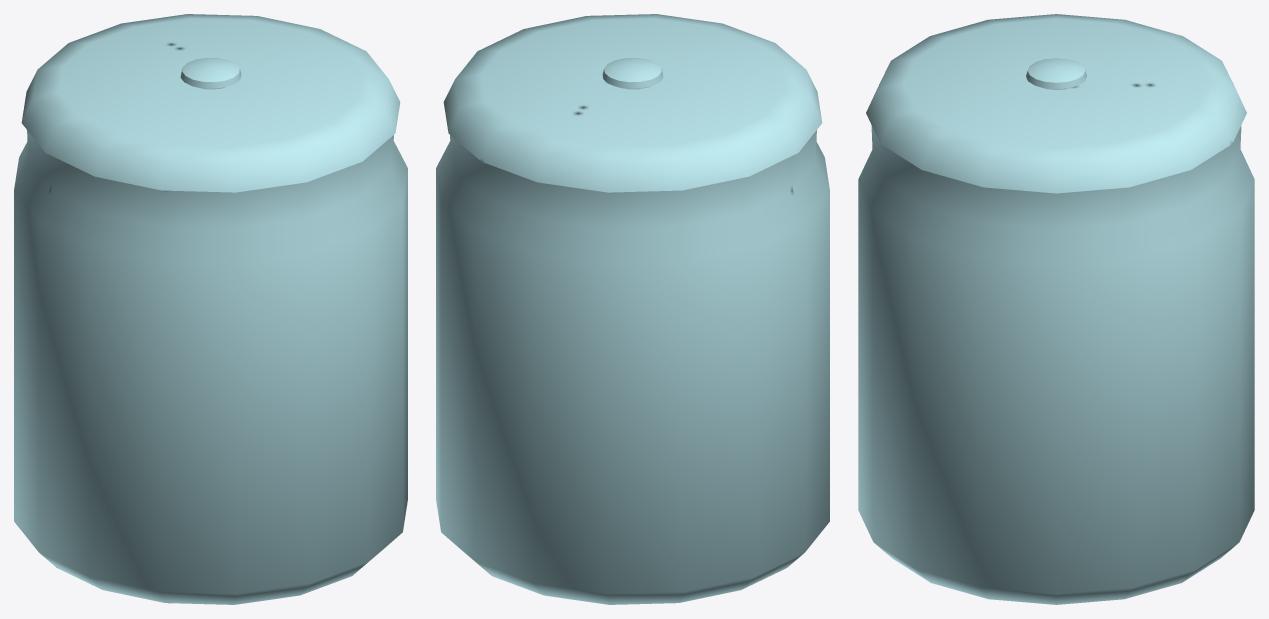
File: Glass_Jar.000.fbx
The picture shows the model from 3 angles, left to right: view 1: azimuth 30°, elevation 25°; view 2: azimuth 150°, elevation 25°; view 3: azimuth 270°, elevation 25°; orthographic projection.
Visible parts, largest first — view 1: Glass_Jar.000; view 2: Glass_Jar.000; view 3: Glass_Jar.000.
Boxes of the visible parts, x1,y1,x2,y2 form: Glass_Jar.000: (14, 14, 407, 604); Glass_Jar.000: (436, 14, 829, 604); Glass_Jar.000: (858, 14, 1254, 604).
Size of the model in its own units: 23.53 by 30.4 by 23.53.
